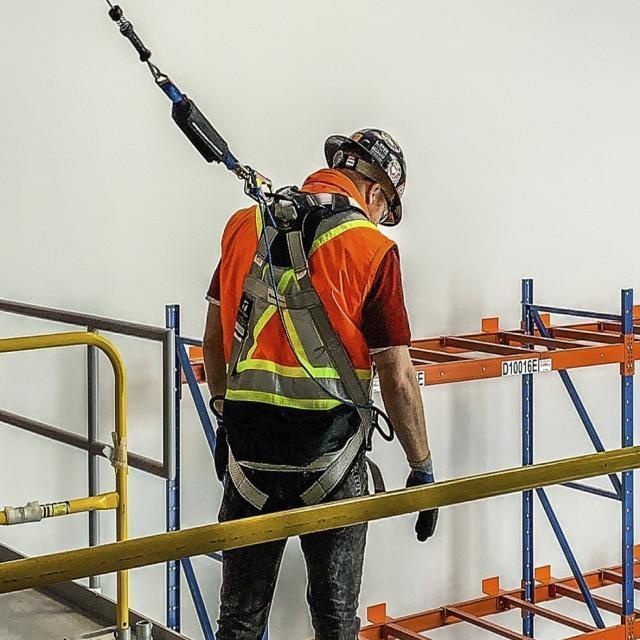Arnes_seguridad: (215, 188, 372, 529)
